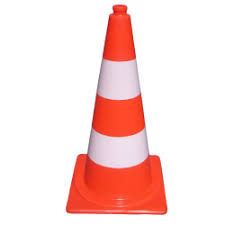cones: (66, 5, 169, 214)
